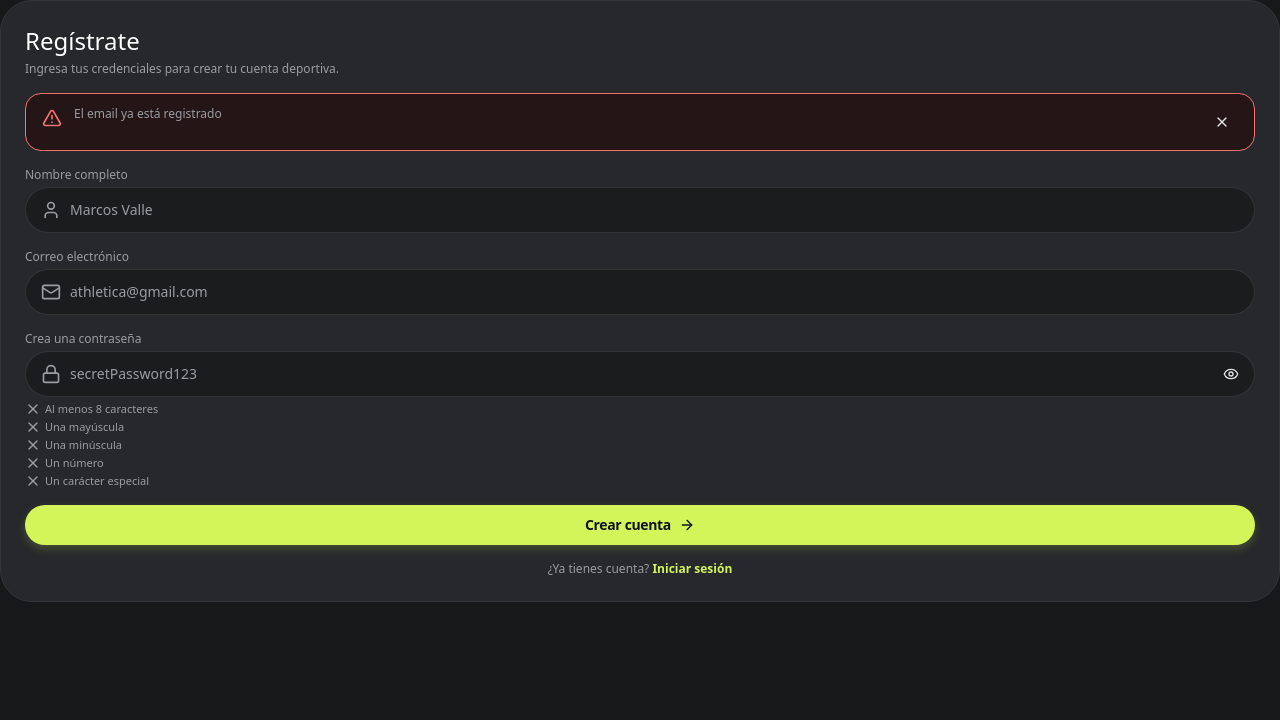
Test case: RegisterForm › muestra el error del servidor en un Alert y lo cierra
Expected: the message reads "El email ya está registrado", x1=74 y1=105 x2=222 y2=122
Click the button named "Cerrar aviso". click: (1222, 122)
box: x1=1206 y1=106 x2=1238 y2=138
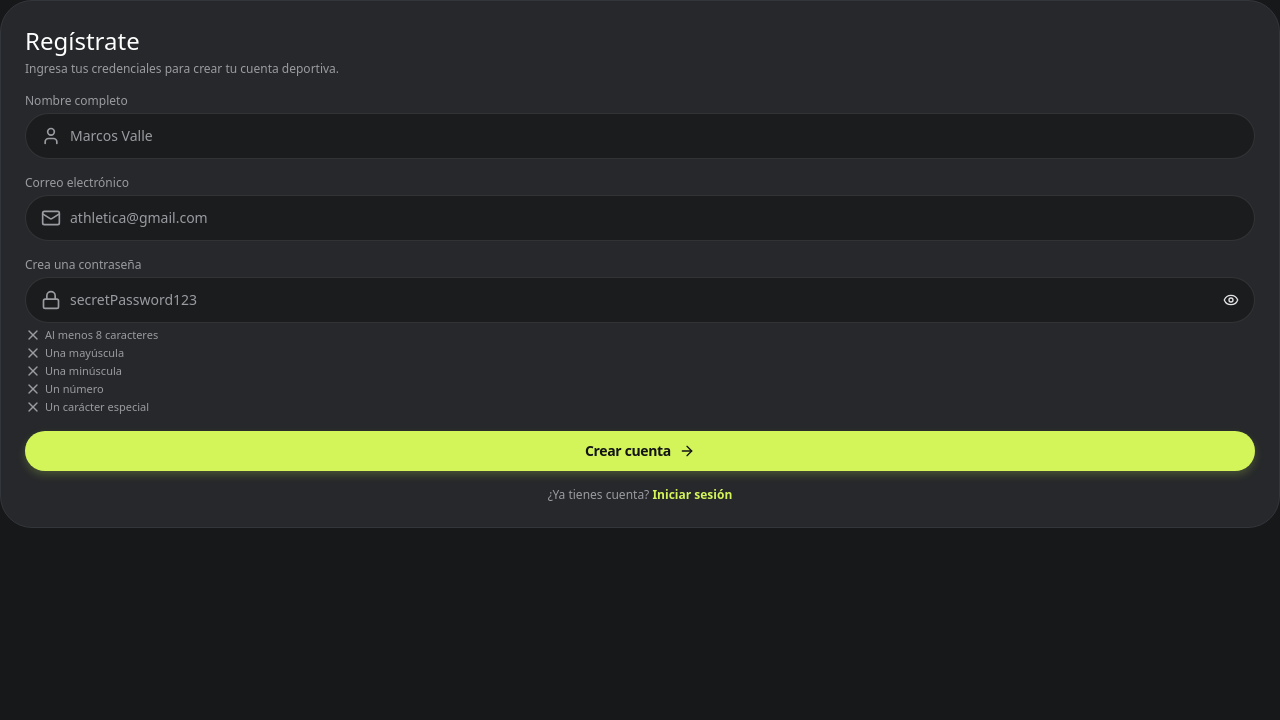
Now the message "El email ya está registrado" is gone
